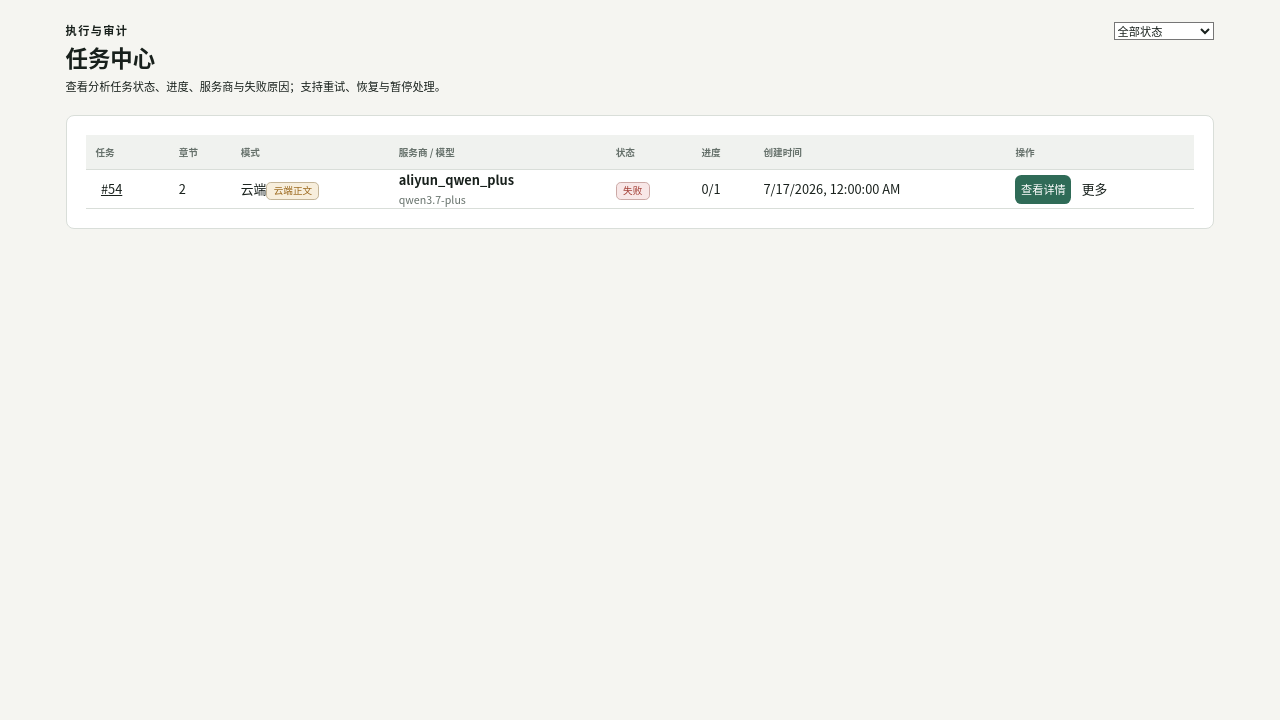
Test case: TasksPage 从已有结果继续 › 未勾选时显示明确提示且不发请求
The width and height of the screenshot is (1280, 720).
Step 1. Click the button "查看详情" → [1043, 189], box [1015,175,1071,204]
(page scrolled)
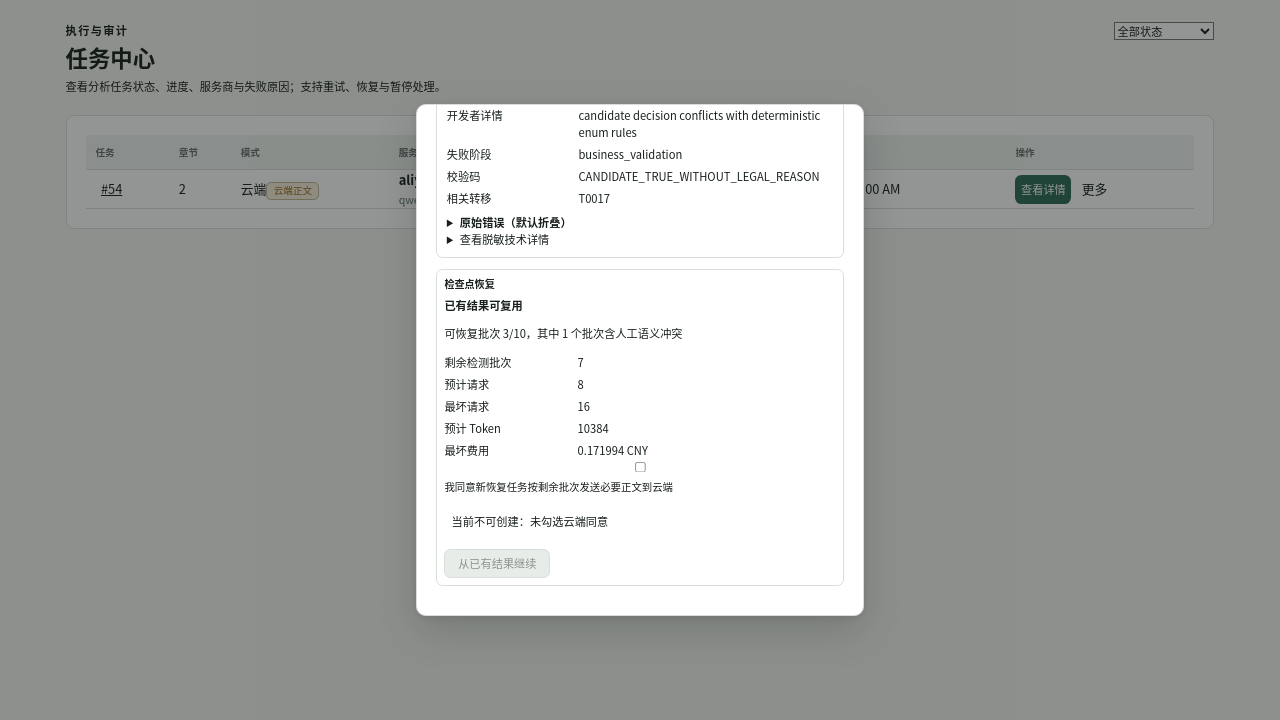
Now the button with test id "continue-from-checkpoints" is disabled, box [444,549,550,578]
Now the text with test id "recovery-disabled-reason" shows "未勾选云端同意", box [530,514,608,530]
